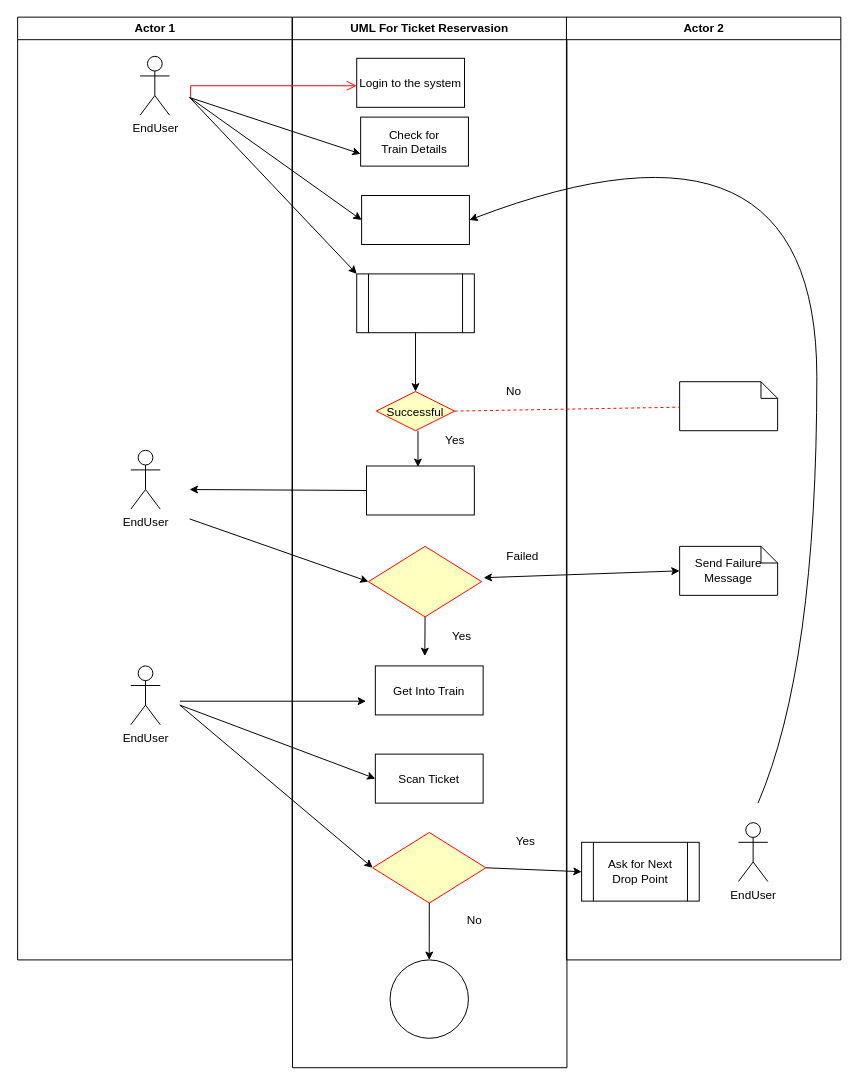
This 858x1085 diagram has some shape labels left out. Here are the shapes that lost their labels. From the top down, the centre of each, then its label:
the point at 415,220: Check for Availability
the point at 415,303: Purchase Request
the point at 728,406: Notification send why not successfull
the point at 420,490: Dispatch QR-Code
the point at 425,581: Ticket Scan
the point at 429,867: Journey Extend
the point at 428,998: End
